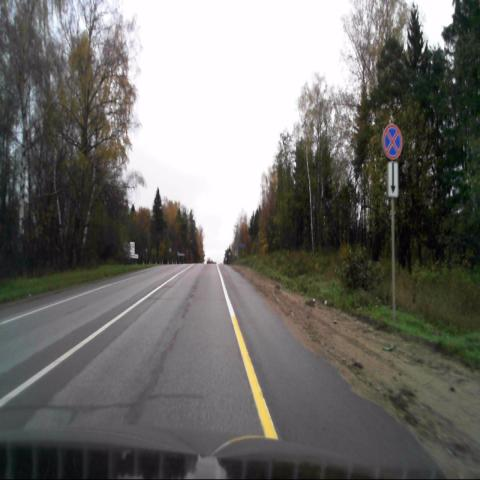8_2_3: (388, 163, 398, 198)
